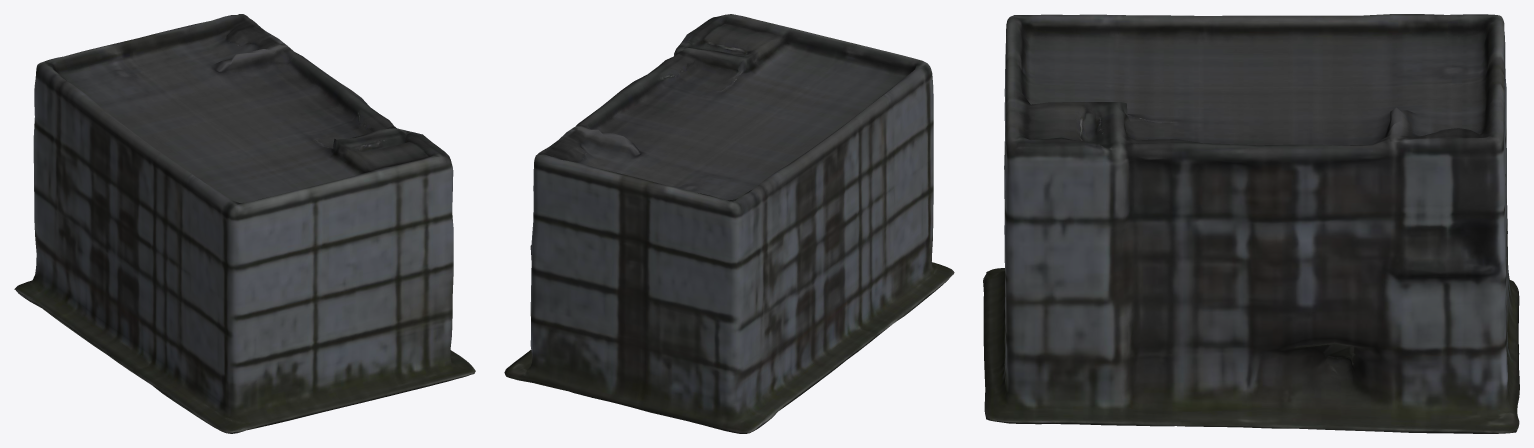
Rendered from abandoned_building2.glb.
3 views of the same model, side by side, from view 1: azimuth 30°, elevation 25°; view 2: azimuth 150°, elevation 25°; view 3: azimuth 270°, elevation 25° (orthographic). The views are drawn at different scales.
Visible parts, largest first — view 1: mesh; view 2: mesh; view 3: mesh.
Part boxes in pixels (<box>): mesh: <box>14,14,475,433</box>; mesh: <box>504,14,954,433</box>; mesh: <box>983,14,1519,433</box>.
Size of the model in its own units: 0.6893 by 0.5769 by 0.9935.
Materials: 1 (1 with a texture image).
